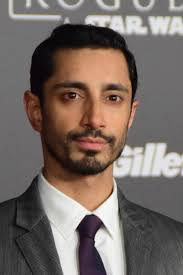asian_male: (22, 12, 172, 187)
